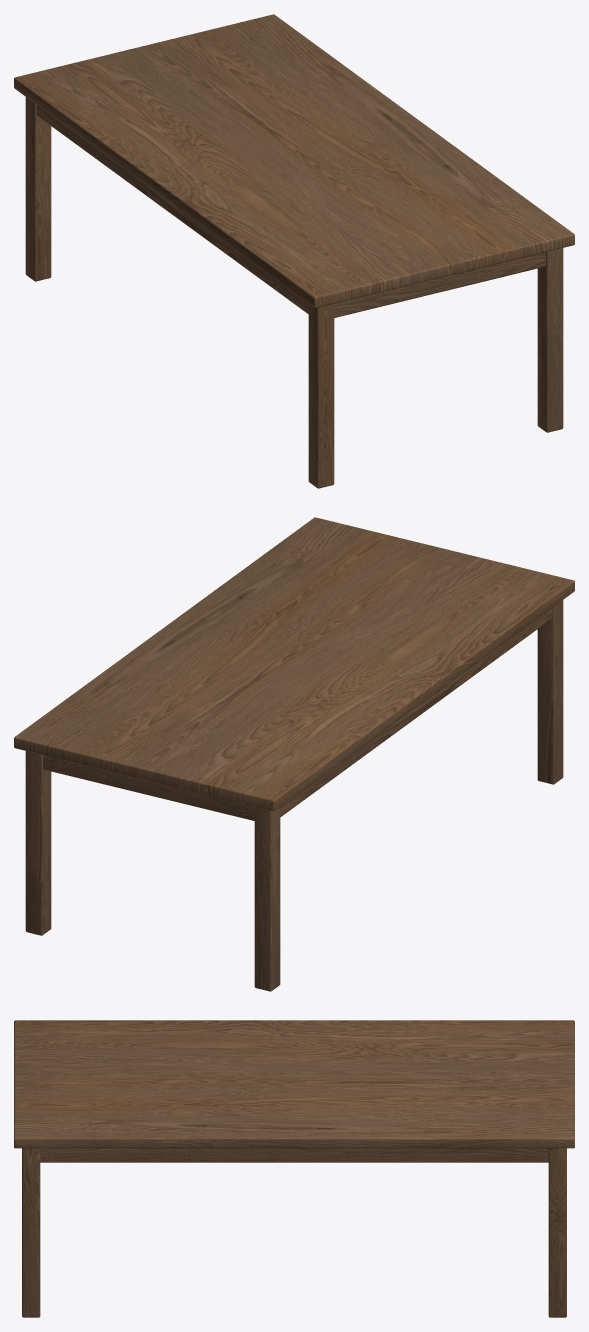
File: for_real_table.gltf
3 views of the same model, one above another, from view 1: azimuth 30°, elevation 25°; view 2: azimuth 150°, elevation 25°; view 3: azimuth 270°, elevation 25° (orthographic). The views are drawn at different scales.
Parts seen in each view (by area): view 1: Cube.008_0; view 2: Cube.008_0; view 3: Cube.008_0.
Boxes of the visible parts, <box> form: Cube.008_0: <box>14,14,574,488</box>; Cube.008_0: <box>14,517,574,991</box>; Cube.008_0: <box>14,1020,574,1317</box>.
Size of the model in its own units: 1.07 by 0.7684 by 2.13.
